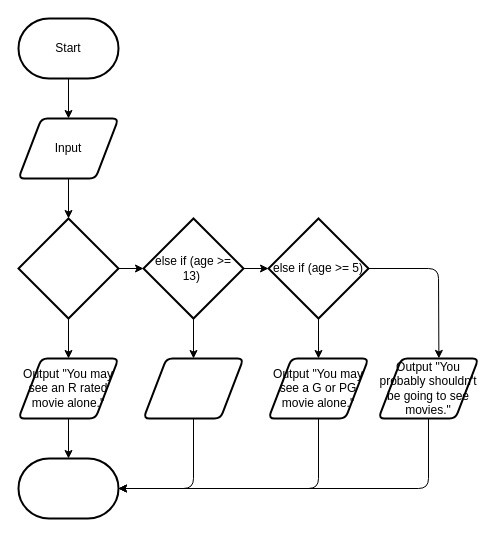
Some shapes in this 496 by 536 pixel diagram are drawn without their labels. Each missing label, with the box of its shape:
if (age >= 17): (17, 217, 119, 319)
Output "You may see a PG-13 movie alone.": (142, 357, 244, 419)
Stop: (17, 457, 119, 519)
